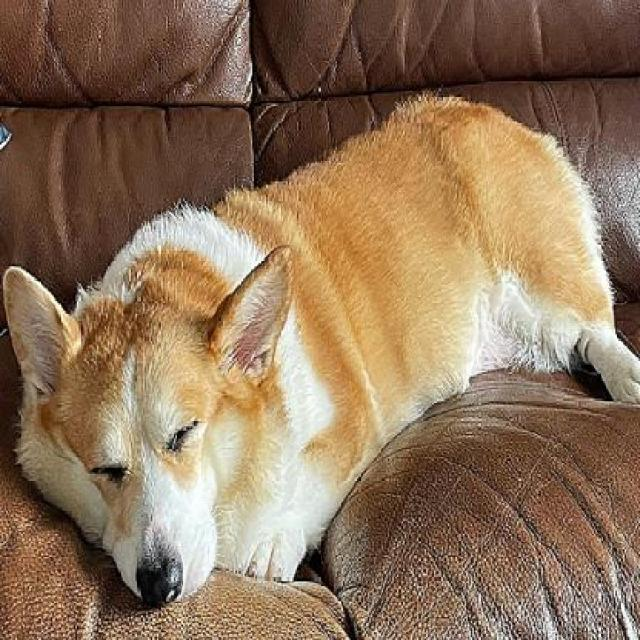Dog: (0, 86, 638, 606)
